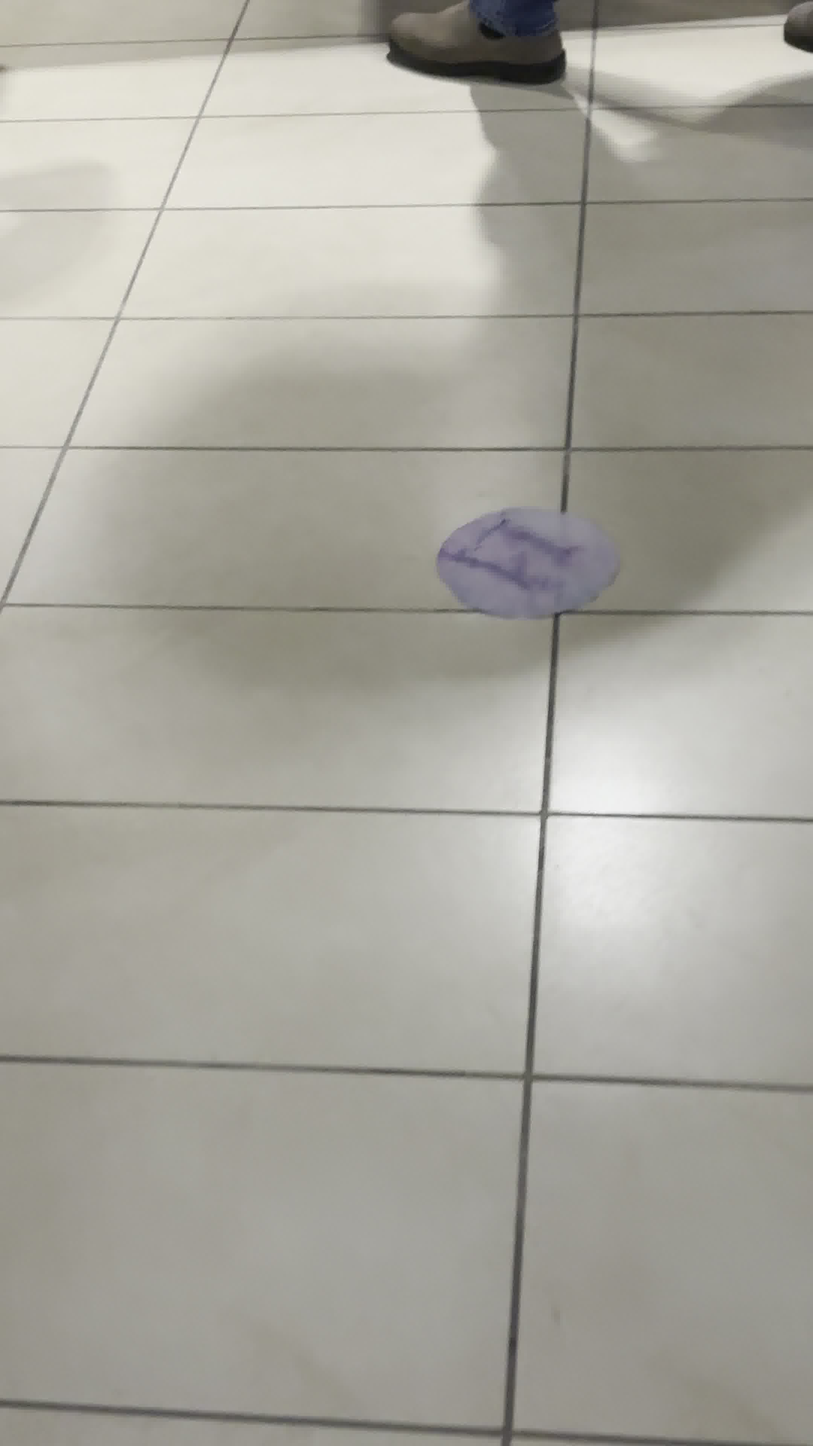Target: (438, 508, 621, 618)
